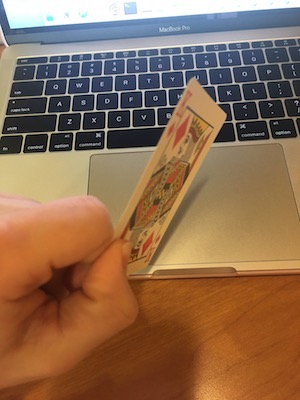KingOfDiamonds: (98, 76, 230, 278)
